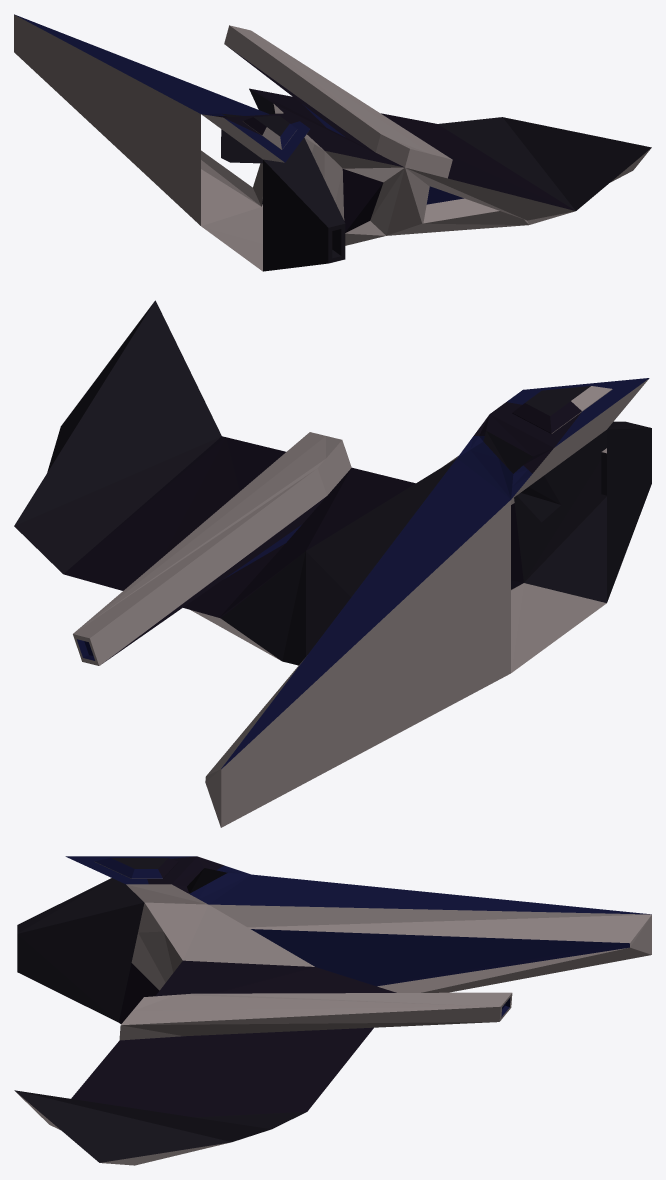
File: lab3.obj
3 renders of one model, top to bottom at view 1: azimuth 30°, elevation 25°; view 2: azimuth 150°, elevation 25°; view 3: azimuth 270°, elevation 25°, orthographic. The views are drawn at different scales.
Parts seen in each view (by area): view 1: Cube; view 2: Cube; view 3: Cube.
Boxes of the visible parts, x1,y1,x2,y2 form: Cube: (14,14,651,271); Cube: (14,300,651,827); Cube: (14,856,651,1165).
Size of the model in its own units: 6.8 by 2.86 by 9.63.
